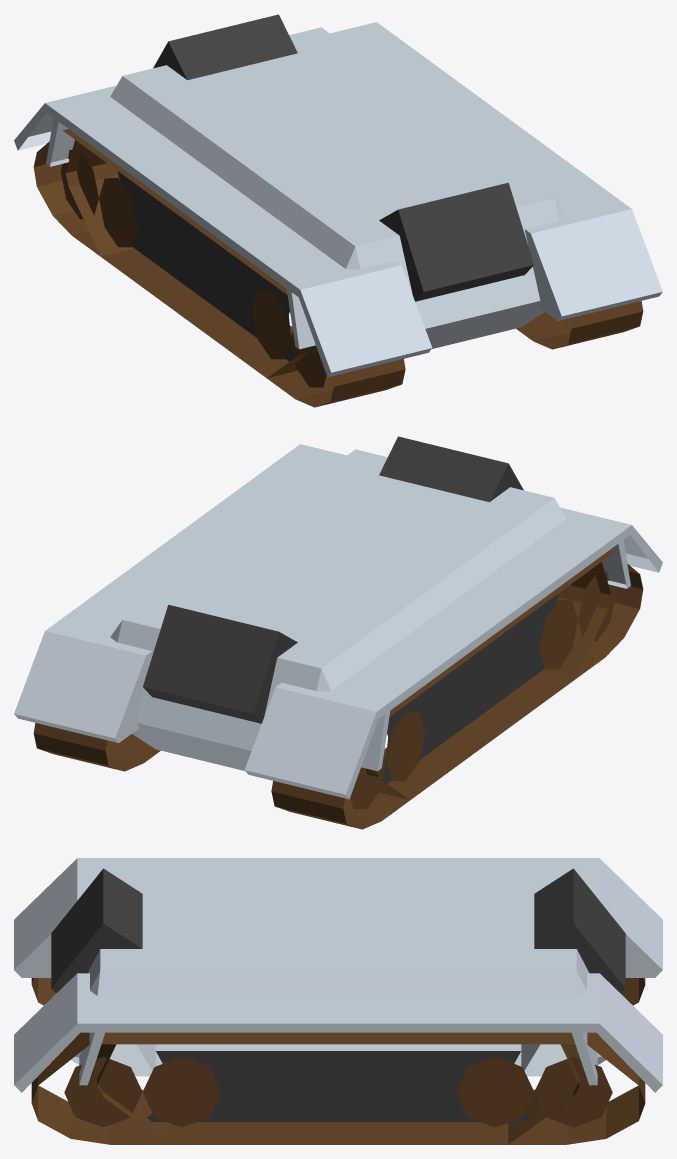
The model's file is tank.FBX.
3 renders of one model, top to bottom at view 1: azimuth 30°, elevation 25°; view 2: azimuth 150°, elevation 25°; view 3: azimuth 270°, elevation 25°, orthographic. The views are drawn at different scales.
Parts seen in each view (by area): view 1: VIFS002, VIFS005, VIFS001, VIFS006, VIFS003, VIFS004; view 2: VIFS005, VIFS002, VIFS003, VIFS004, VIFS006, VIFS001; view 3: VIFS002, VIFS005, VIFS001, VIFS003, VIFS006, VIFS004.
Part boxes in pixels (box(x1,y1,x2,y2)): VIFS002: box(46, 27, 662, 377); VIFS005: box(14, 22, 620, 349); VIFS001: box(65, 140, 643, 407); VIFS006: box(117, 171, 533, 335); VIFS003: box(148, 14, 297, 361); VIFS004: box(33, 129, 311, 377); VIFS005: box(14, 449, 630, 799); VIFS002: box(59, 444, 662, 771); VIFS003: box(143, 593, 559, 759); VIFS004: box(33, 562, 611, 829); VIFS006: box(379, 436, 523, 783); VIFS001: box(365, 551, 643, 799); VIFS002: box(14, 858, 605, 1092); VIFS005: box(71, 858, 662, 1092); VIFS001: box(31, 978, 579, 1144); VIFS003: box(147, 868, 625, 1121); VIFS006: box(51, 868, 529, 1121); VIFS004: box(97, 978, 645, 1144).
Size of the model in its own units: 1.2 by 0.58 by 1.99.
